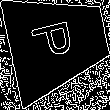P_E: (32, 19, 84, 67)
